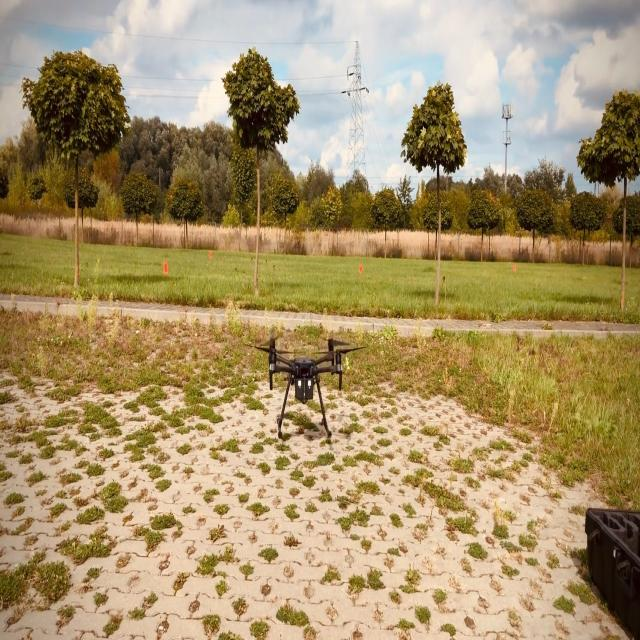drone: (254, 334, 366, 439)
